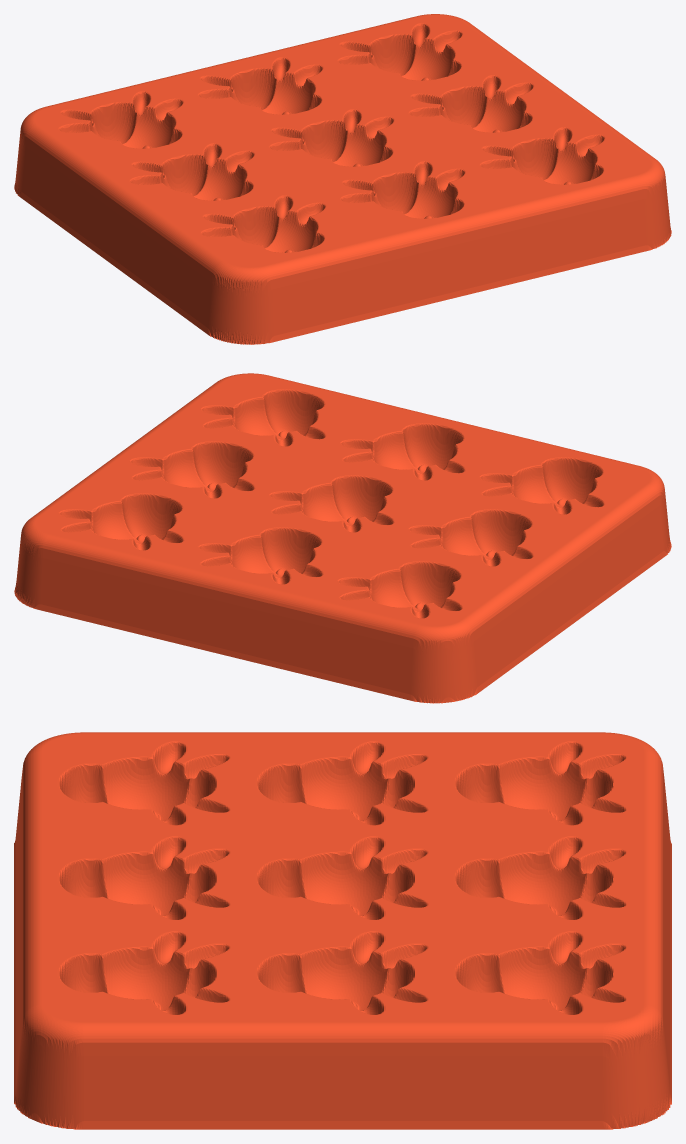
The model's file is mold.glb.
3 views of the same model, one above another, from view 1: azimuth 30°, elevation 25°; view 2: azimuth 150°, elevation 25°; view 3: azimuth 270°, elevation 25° (orthographic). The views are drawn at different scales.
Visible parts, largest first — view 1: geometry_0; view 2: geometry_0; view 3: geometry_0.
Boxes of the visible parts, x1=… form: geometry_0: x1=14, y1=14, x2=671, y2=344; geometry_0: x1=14, y1=373, x2=671, y2=703; geometry_0: x1=14, y1=732, x2=671, y2=1129.
Size of the model in its own units: 0.0952 by 0.0136 by 0.085.
